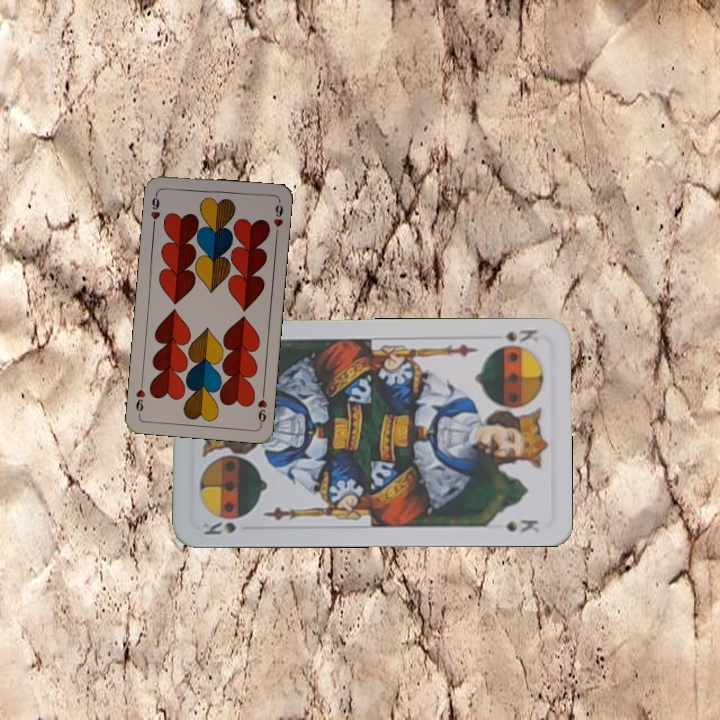H9: (253, 387, 269, 427), (147, 189, 162, 229)
SK: (489, 325, 540, 352), (197, 517, 239, 537)
